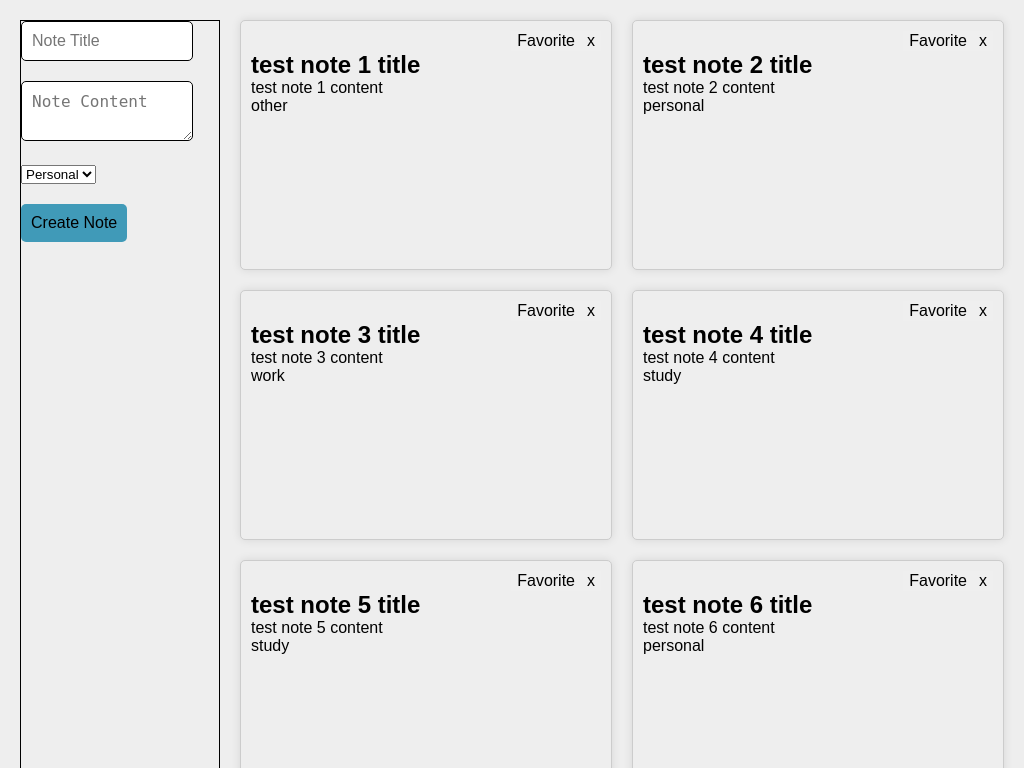
Test: Create Sticky Note › Read new note
// Have a fireEvent for form submission.
Type "Terminator" into the field with placeholder "Note Title". click: (107, 41)
box: [21, 21, 193, 61]
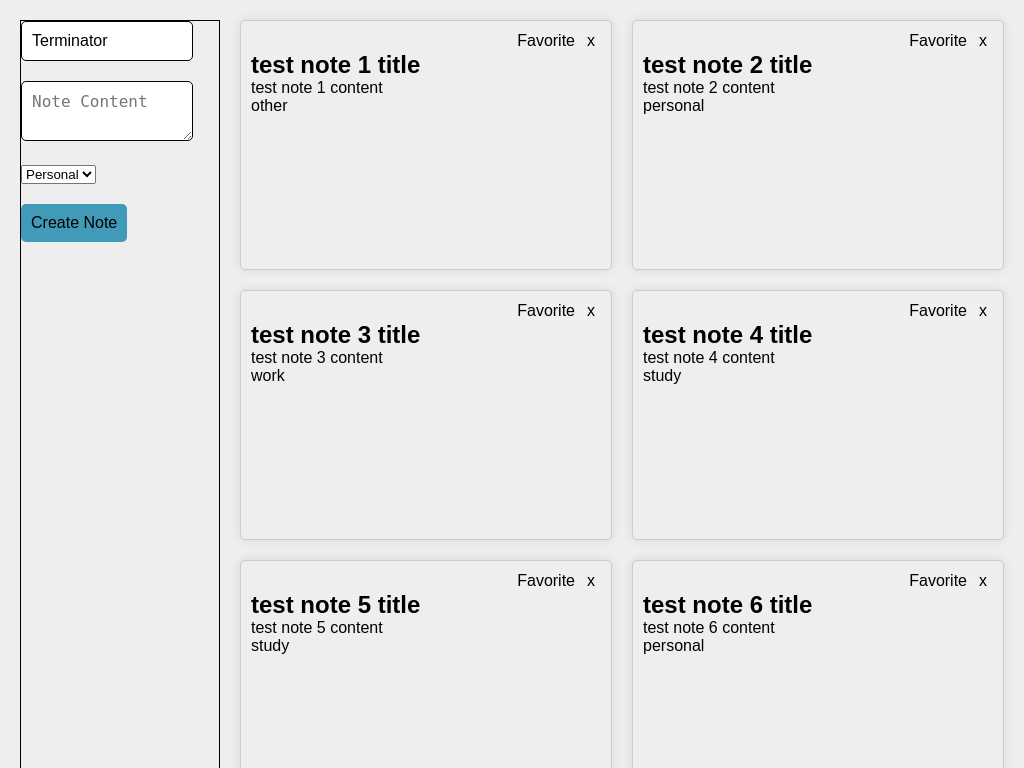
Type "Starring Arnold Schwazzneger" into the text box with placeholder "Note Content". click: (107, 111)
box: [21, 81, 193, 141]
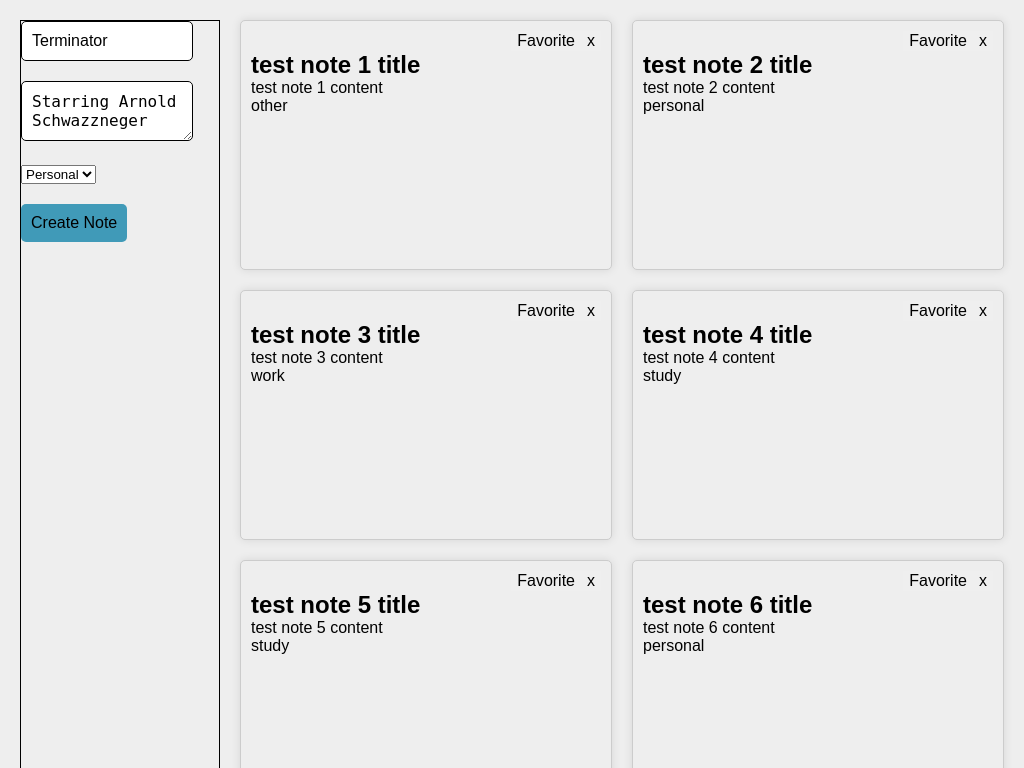
Select "Personal" in the dropdown with test id "label". click: (58, 174)
box: [21, 165, 96, 184]
Click the button "Create Note". click: (74, 223)
box: [21, 204, 127, 242]
(page scrolled)
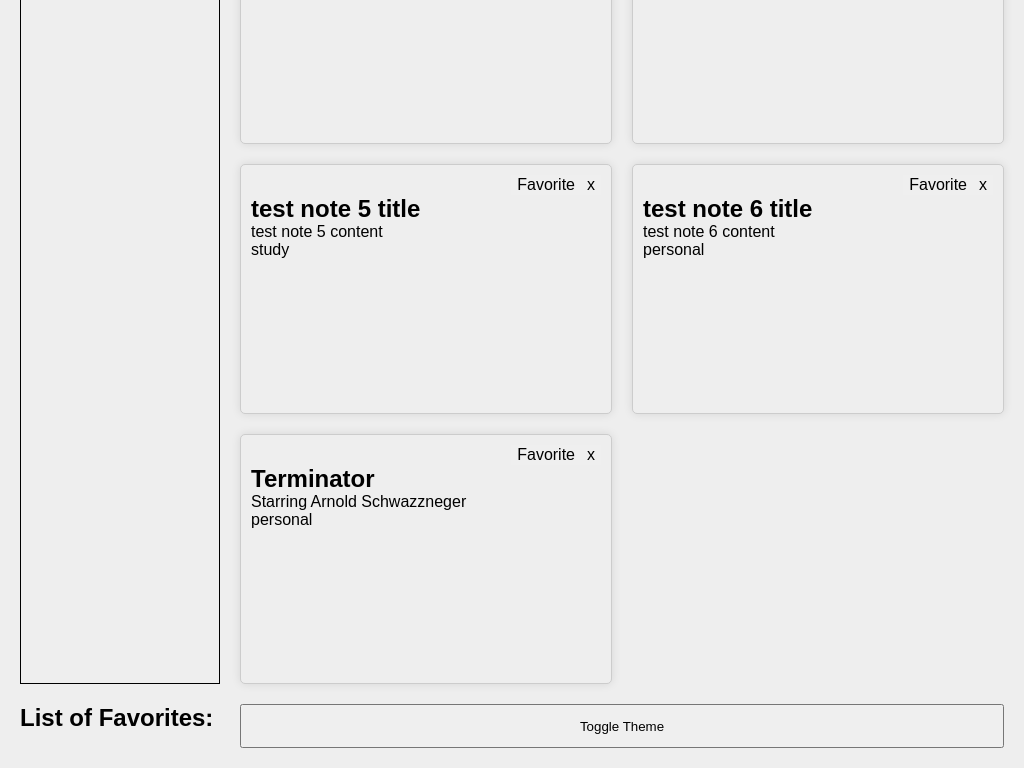
Check: the heading "Terminator" is shown, box [251, 465, 375, 492]
Check: the text box "Starring Arnold Schwazzneger" is shown, box [251, 493, 466, 510]
